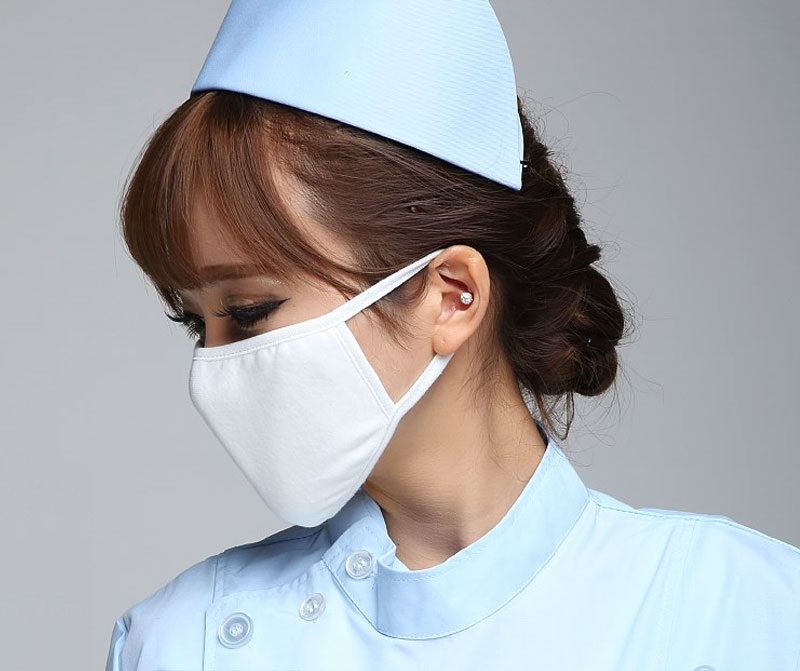face_mask: (161, 166, 414, 489)
